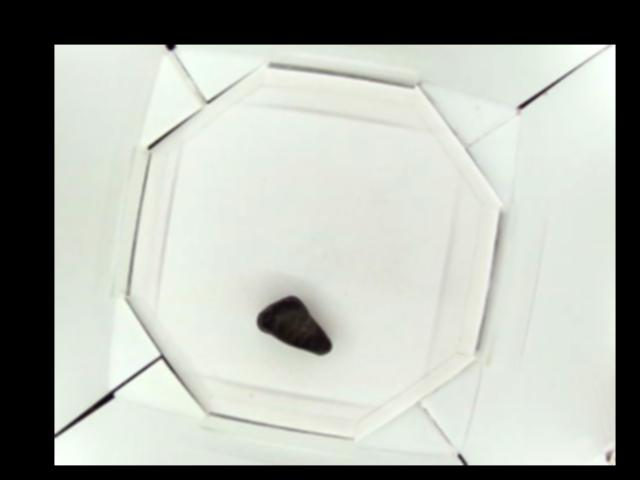Pebble: (255, 295, 333, 355)
